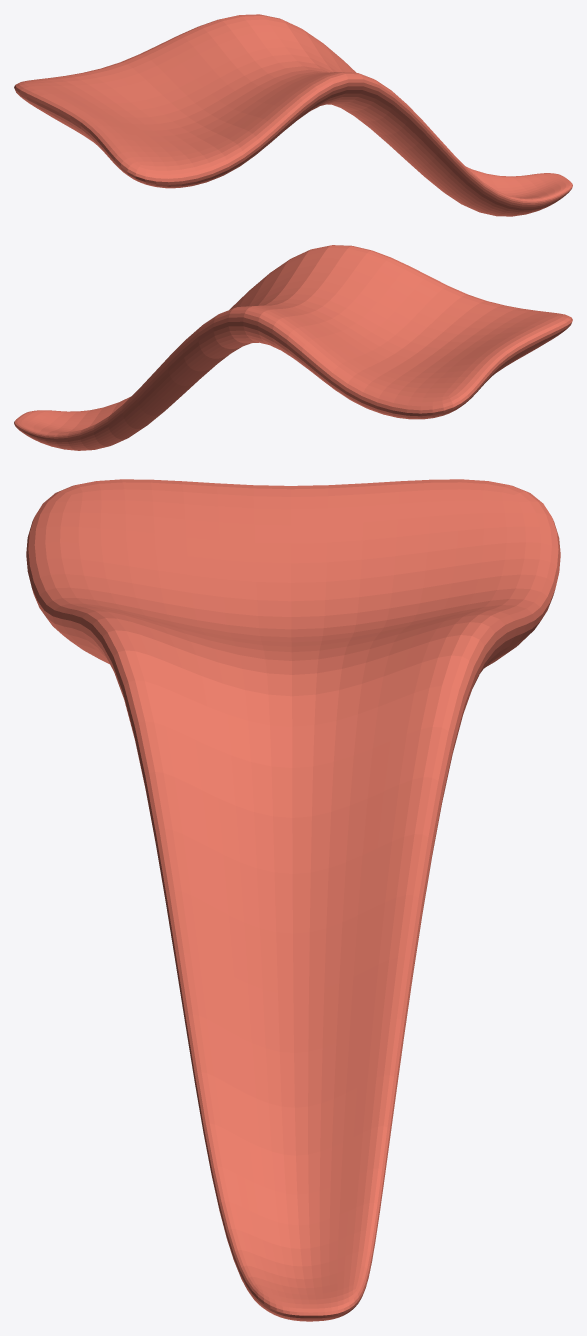
File: tongue.glb
The picture shows the model from 3 angles, top to bottom: view 1: azimuth 30°, elevation 25°; view 2: azimuth 150°, elevation 25°; view 3: azimuth 270°, elevation 25°; orthographic projection. The views are drawn at different scales.
Parts seen in each view (by area): view 1: Cube; view 2: Cube; view 3: Cube.
Part boxes in pixels (x1,y1,x2,y2): Cube: (14,14,572,216); Cube: (14,245,572,450); Cube: (26,479,560,1321).
Size of the model in its own units: 1445 by 621 by 676.
